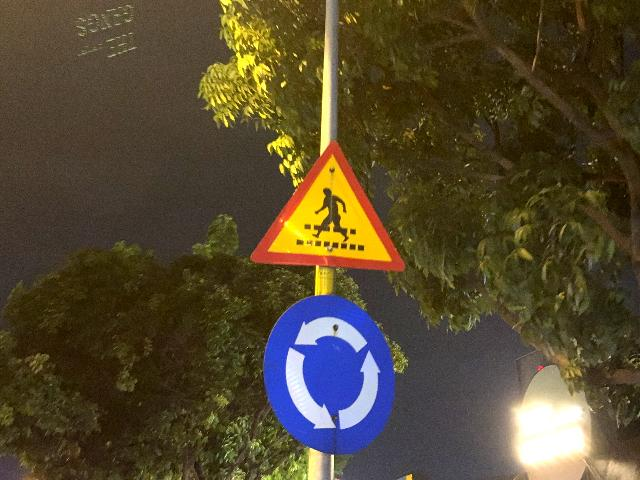duong-nguoi-di-bo-cat-ngang: (252, 141, 407, 272)
noi-giao-nhau-chay-theo-vong-xuyen: (263, 294, 394, 455)
